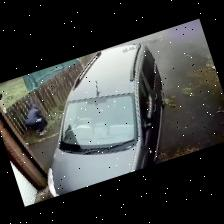person: (25, 101, 47, 135)
